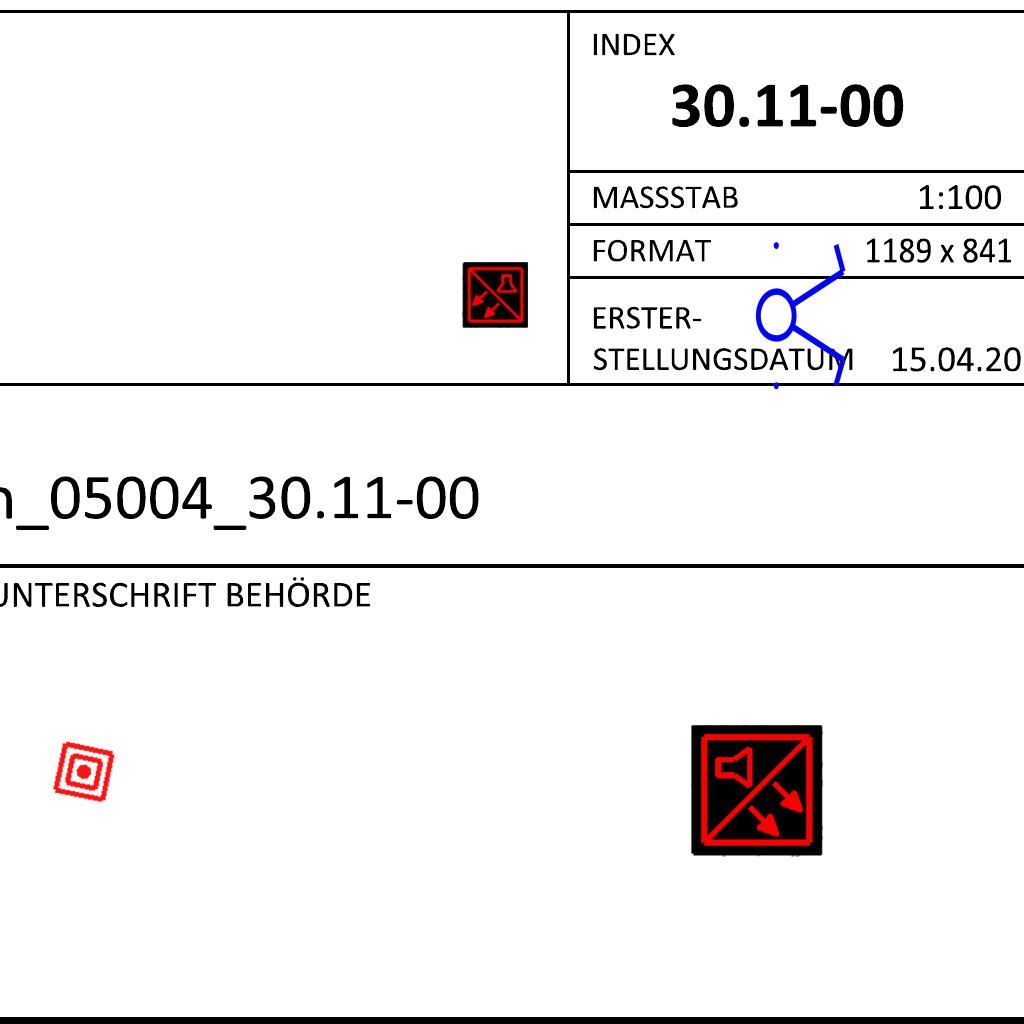NAM-Nichtautomatischer_Melder: (50, 738, 118, 806)
OKW_Multisensormelder_(Kombination_optischer_Rauch-Kahlenmonoxid_Waerme-Melder): (691, 725, 823, 857), (462, 262, 528, 328)
Serienschalter: (754, 230, 850, 398)
